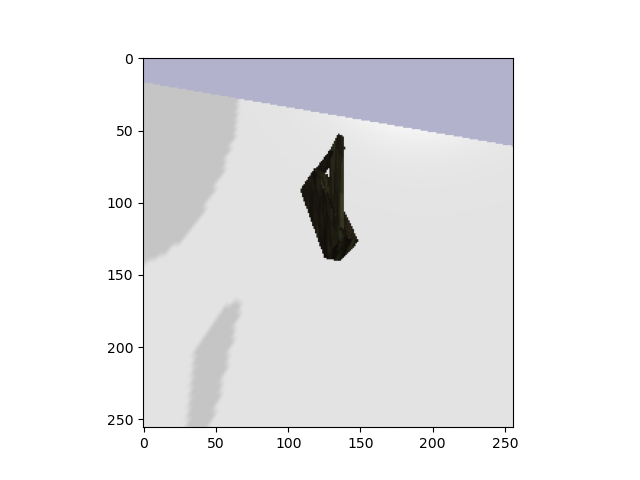v249b387_109: (287, 131, 367, 265)
